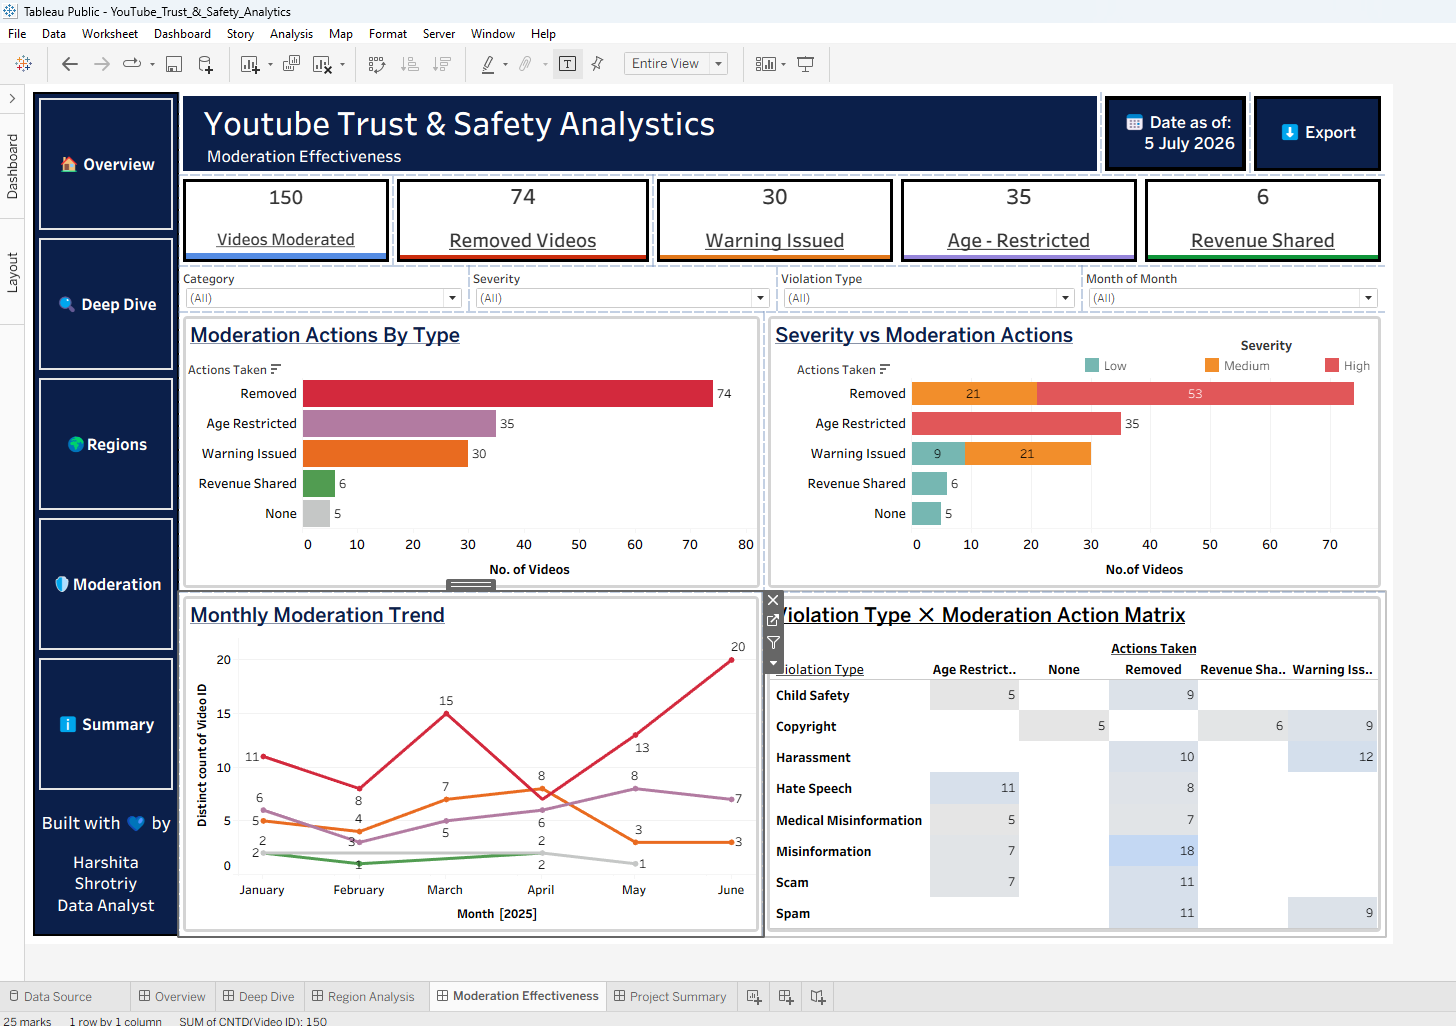

This screenshot's page, from the dashboard's own definition file:
{"tool":"tableau","page":{"name":"Moderation Effectiveness","canvas":[1368,860],"ordinal":3},"visuals":[{"type":"text","box":[143.4,8,932.5,83]},{"type":"text","box":[1076,8,149,83]},{"type":"text","box":[1225,8,135,83]},{"type":"dashboard-object","box":[10,10,131,140]},{"type":"worksheet","title":"kpi- Vdo mdrted","mark":"Automatic","box":[143.4,91,224.5,90.6]},{"type":"worksheet","title":"KPI - RV","mark":"Automatic","box":[368,91,260,90.6]},{"type":"worksheet","title":"kpi-warning","mark":"Automatic","box":[628,91,244,91]},{"type":"worksheet","title":"kpi-age","mark":"Automatic","box":[872,91,244,91]},{"type":"worksheet","title":"kpi- revenue","mark":"Automatic","box":[1116,91,244,91]},{"type":"dashboard-object","box":[10,150,131,140]},{"type":"filter","title":"KPI - RV","param":"[federated.00ehc49100lf2u1d2snlt14ci4es].[none:Category:nk]","box":[143.4,181.6,300.6,46.4]},{"type":"filter","title":"KPI - RV","param":"[federated.00ehc49100lf2u1d2snlt14ci4es].[none:Severity:nk]","box":[444,181.6,308,46.4]},{"type":"filter","title":"KPI - RV","param":"[federated.00ehc49100lf2u1d2snlt14ci4es].[none:Violation_Type:nk]","box":[752,181.6,305,46.4]},{"type":"filter","title":"KPI - RV","param":"[federated.00ehc49100lf2u1d2snlt14ci4es].[mn:Upload Date (copy)_1500305030254592","box":[1057,181.6,303,46.4]},{"type":"worksheet","title":"MA-By Type","mark":"Automatic","rows":["Action_Taken"],"cols":["Video_ID"],"box":[143.4,228,595.5,280]},{"type":"worksheet","title":"MA by Severity","mark":"Automatic","rows":["Action_Taken"],"cols":["Video_ID"],"box":[739,228,621,280]},{"type":"dashboard-object","box":[10,290,131,140]},{"type":"dashboard-object","box":[10,430,131,140]},{"type":"worksheet","title":"MA- monthly trend","mark":"Automatic","rows":["Video_ID"],"cols":["Upload Date (copy)_1500305030254592"],"box":[143.4,508,595,344]},{"type":"worksheet","title":"Modern-violation","mark":"Automatic","rows":["Violation_Type"],"cols":["Action_Taken"],"box":[738.4,508,621.6,344]},{"type":"dashboard-object","box":[10,570,131,140]},{"type":"text","box":[10,710,131,140]}]}

Visuals, with their boxes on the page's 1368x860 design canvas (x1, y1, x2, y2). These are canvas units, not pixel positions in the 1456x1026 screenshot, which may show the page scaled, cropped or inside an application window:
text: (x1=143, y1=8, x2=1076, y2=91)
text: (x1=1076, y1=8, x2=1225, y2=91)
text: (x1=1225, y1=8, x2=1360, y2=91)
dashboard-object: (x1=10, y1=10, x2=141, y2=150)
"kpi- Vdo mdrted" worksheet: (x1=143, y1=91, x2=368, y2=182)
"KPI - RV" worksheet: (x1=368, y1=91, x2=628, y2=182)
"kpi-warning" worksheet: (x1=628, y1=91, x2=872, y2=182)
"kpi-age" worksheet: (x1=872, y1=91, x2=1116, y2=182)
"kpi- revenue" worksheet: (x1=1116, y1=91, x2=1360, y2=182)
dashboard-object: (x1=10, y1=150, x2=141, y2=290)
"KPI - RV" filter: (x1=143, y1=182, x2=444, y2=228)
"KPI - RV" filter: (x1=444, y1=182, x2=752, y2=228)
"KPI - RV" filter: (x1=752, y1=182, x2=1057, y2=228)
"KPI - RV" filter: (x1=1057, y1=182, x2=1360, y2=228)
"MA-By Type" worksheet: (x1=143, y1=228, x2=739, y2=508)
"MA by Severity" worksheet: (x1=739, y1=228, x2=1360, y2=508)
dashboard-object: (x1=10, y1=290, x2=141, y2=430)
dashboard-object: (x1=10, y1=430, x2=141, y2=570)
"MA- monthly trend" worksheet: (x1=143, y1=508, x2=738, y2=852)
"Modern-violation" worksheet: (x1=738, y1=508, x2=1360, y2=852)
dashboard-object: (x1=10, y1=570, x2=141, y2=710)
text: (x1=10, y1=710, x2=141, y2=850)
